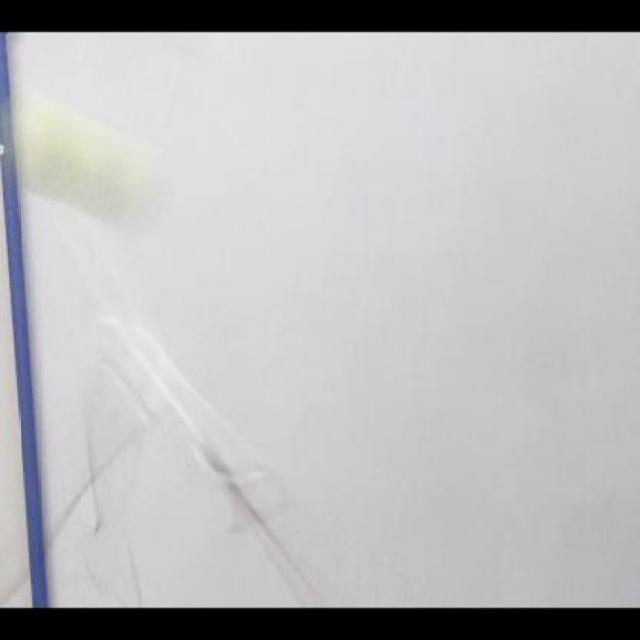baseball: (2, 92, 163, 226)
